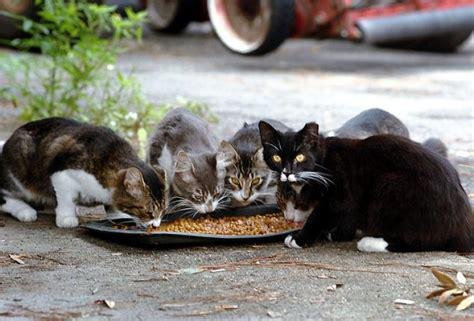cat: (258, 119, 474, 252), (1, 116, 166, 227), (149, 112, 226, 214), (216, 116, 296, 207)
